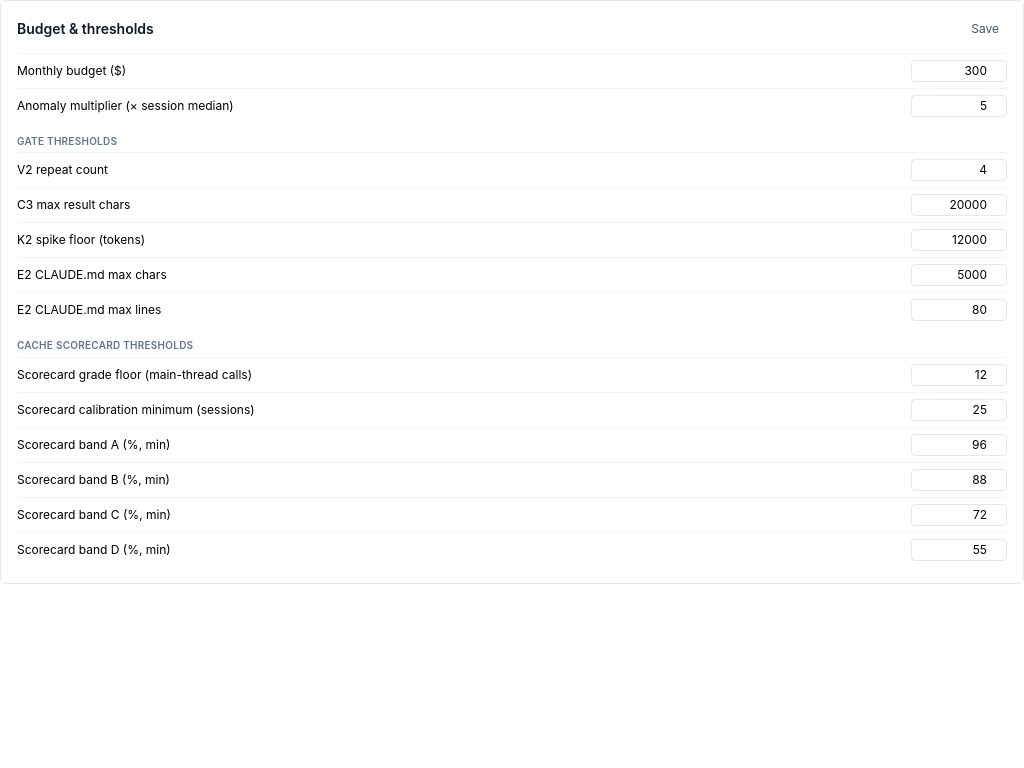
Scenario: ThresholdsPanel (#124 review finding #9) › clamps a band value typed above 100 down to 100 before it could ever be saved
Expected: the heading "Cache Scorecard thresholds" is shown, [17, 339, 193, 351]
Replace the text in the number field labelled "Scorecard band A (%, min)" with "150": (959, 445) [911, 434, 1007, 456]
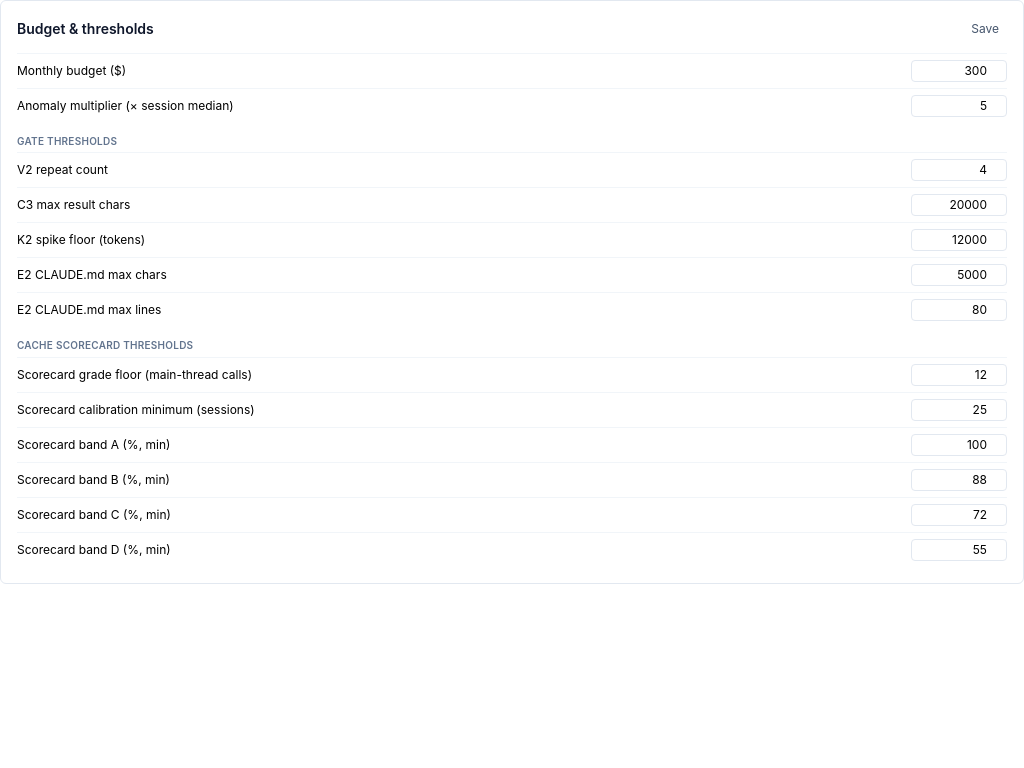
Expected: the number field labelled "Scorecard band A (%, min)" holds "100", [911, 434, 1007, 456]
